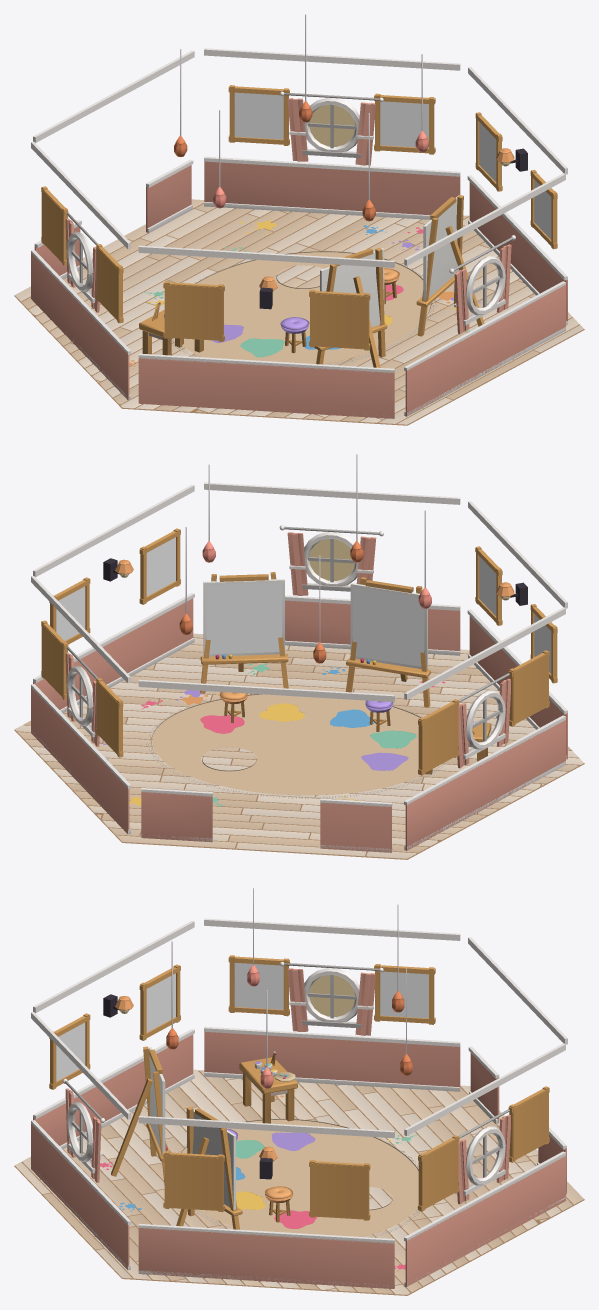
Rendered from zon_room_art_lite.glb.
3 renders of one model, top to bottom at view 1: azimuth 30°, elevation 25°; view 2: azimuth 150°, elevation 25°; view 3: azimuth 270°, elevation 25°, orthographic.
Visible parts, largest first — view 1: SM_zon_room_art_lite_room_floor_plaster_x0_z0, SM_zon_room_art_lite_room_floor_wood_x0_z0, SM_zon_room_art_lite_room_rug_fabric_x0_z0, SCREEN_fur_frame_gallery_pic__3, SCREEN_fur_frame_gallery_pic__2, SM_zon_room_art_lite_glow_vc_x0_z0, SCREEN_fur_frame_gallery_pic__7, SM_zon_room_art_lite_room_floor_gloss_x0_z0, SCREEN_fur_frame_gallery_pic__6; view 2: SM_zon_room_art_lite_room_floor_plaster_x0_z0, SM_zon_room_art_lite_room_floor_wood_x0_z0, SM_zon_room_art_lite_room_rug_fabric_x0_z0, SCREEN_fur_easel_art_canvas__0, SCREEN_fur_easel_art_canvas__1, SM_zon_room_art_lite_glow_vc_x0_z0, SCREEN_fur_frame_gallery_pic__6, SCREEN_fur_frame_gallery_pic__7, SM_zon_room_art_lite_room_floor_gloss_x0_z0, SCREEN_fur_frame_gallery_pic__5, SCREEN_fur_frame_gallery_pic__4; view 3: SM_zon_room_art_lite_room_floor_plaster_x0_z0, SM_zon_room_art_lite_room_floor_wood_x0_z0, SM_zon_room_art_lite_room_rug_fabric_x0_z0, SCREEN_fur_frame_gallery_pic__1, SCREEN_fur_frame_gallery_pic__0, SM_zon_room_art_lite_glow_vc_x0_z0, SCREEN_fur_frame_gallery_pic__4, SCREEN_fur_frame_gallery_pic__5.
Boxes of the visible parts, x1,y1,x2,y2 form: SM_zon_room_art_lite_room_floor_plaster_x0_z0: (31,14,567,418); SM_zon_room_art_lite_room_floor_wood_x0_z0: (14,85,584,425); SM_zon_room_art_lite_room_rug_fabric_x0_z0: (172,250,436,365); SCREEN_fur_frame_gallery_pic__3: (234,92,283,139); SCREEN_fur_frame_gallery_pic__2: (380,101,428,148); SM_zon_room_art_lite_glow_vc_x0_z0: (272,104,510,291); SCREEN_fur_frame_gallery_pic__7: (479,122,496,182); SM_zon_room_art_lite_room_floor_gloss_x0_z0: (129,219,481,369); SCREEN_fur_frame_gallery_pic__6: (534,180,551,239); SM_zon_room_art_lite_room_floor_plaster_x0_z0: (31,454,567,852); SM_zon_room_art_lite_room_floor_wood_x0_z0: (14,528,584,859); SM_zon_room_art_lite_room_rug_fabric_x0_z0: (146,694,447,799); SCREEN_fur_easel_art_canvas__0: (206,583,282,654); SCREEN_fur_easel_art_canvas__1: (353,587,424,666); SM_zon_room_art_lite_glow_vc_x0_z0: (119,539,510,600); SCREEN_fur_frame_gallery_pic__6: (146,537,175,596); SCREEN_fur_frame_gallery_pic__7: (56,586,85,640); SM_zon_room_art_lite_room_floor_gloss_x0_z0: (99,654,445,806); SCREEN_fur_frame_gallery_pic__5: (479,556,496,616); SCREEN_fur_frame_gallery_pic__4: (534,614,551,673); SM_zon_room_art_lite_room_floor_plaster_x0_z0: (31,888,567,1289); SM_zon_room_art_lite_room_floor_wood_x0_z0: (14,955,584,1295); SM_zon_room_art_lite_room_rug_fabric_x0_z0: (178,1118,420,1237); SCREEN_fur_frame_gallery_pic__1: (234,963,283,1009); SCREEN_fur_frame_gallery_pic__0: (380,971,428,1018); SM_zon_room_art_lite_glow_vc_x0_z0: (119,975,354,1161); SCREEN_fur_frame_gallery_pic__4: (146,973,175,1032); SCREEN_fur_frame_gallery_pic__5: (56,1022,85,1081).
Bounding box in the file's own units: 9.83 × 5.03 × 10.5.
